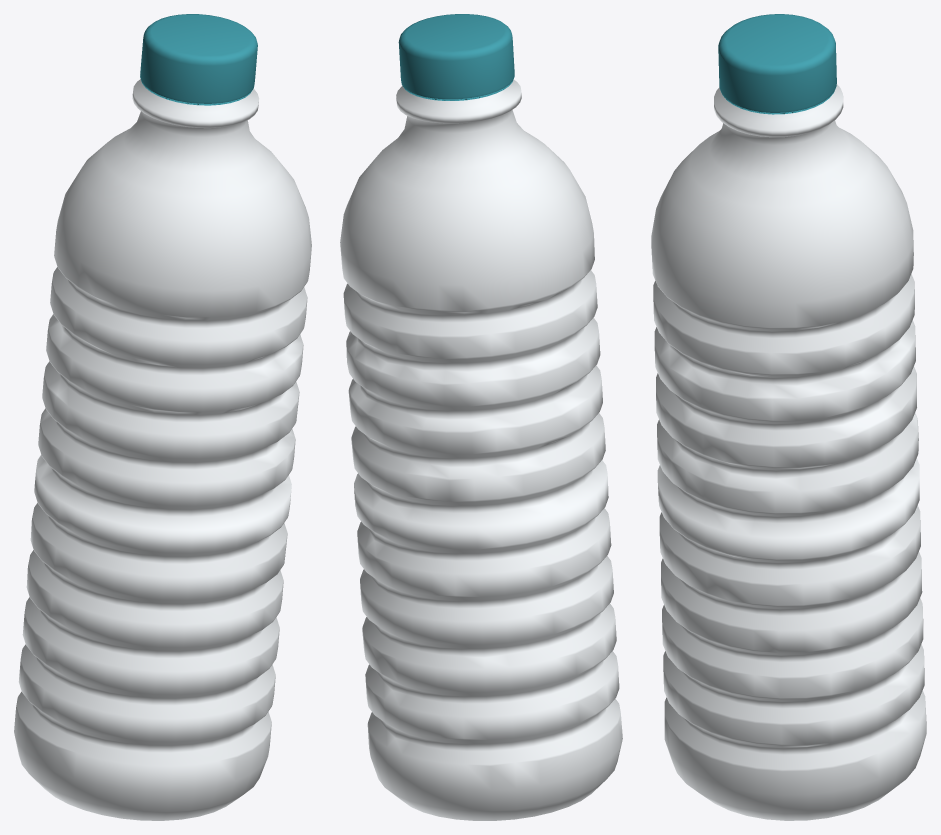
File: water_bottle.glb
3 renders of one model, left to right at view 1: azimuth 30°, elevation 25°; view 2: azimuth 150°, elevation 25°; view 3: azimuth 270°, elevation 25°, orthographic. The views are drawn at different scales.
Visible parts, largest first — view 1: Object_2, Object_3; view 2: Object_2, Object_3; view 3: Object_2, Object_3.
Boxes of the visible parts, bbox=[...] form: Object_2: bbox=[14, 79, 311, 820]; Object_3: bbox=[140, 14, 257, 105]; Object_2: bbox=[340, 79, 622, 820]; Object_3: bbox=[398, 14, 514, 100]; Object_2: bbox=[651, 84, 926, 820]; Object_3: bbox=[718, 14, 836, 114].
Size of the model in its own units: 0.0856 by 0.24 by 0.0776.
